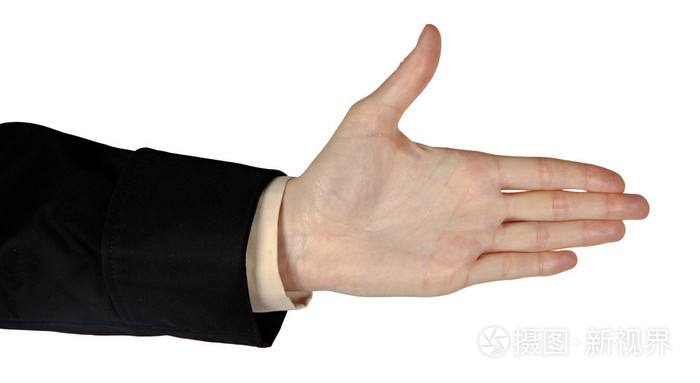no-phone: (293, 18, 652, 300)
